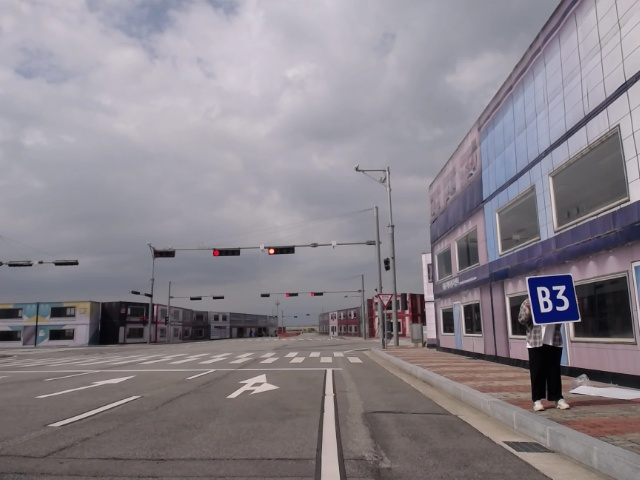delivery_b3: (526, 273, 581, 325)
red_4: (265, 243, 297, 256), (212, 247, 242, 258), (308, 289, 325, 297), (284, 291, 299, 298)
